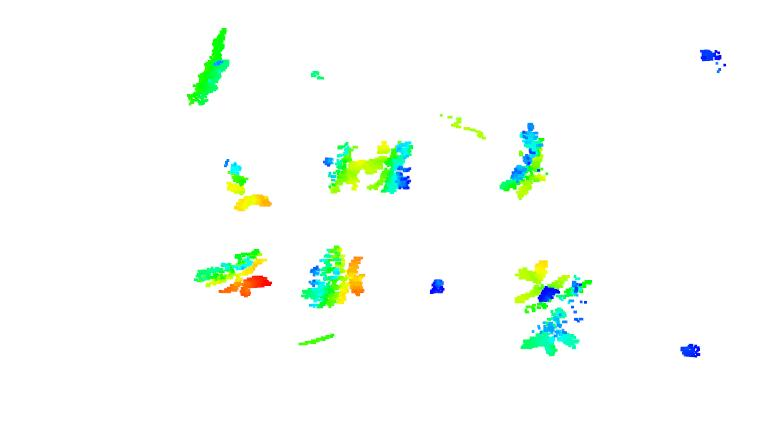chickpea: (512, 256, 591, 357), (299, 246, 365, 311), (192, 247, 274, 298), (497, 121, 547, 202), (218, 155, 275, 212), (368, 134, 419, 195), (322, 142, 366, 195)
